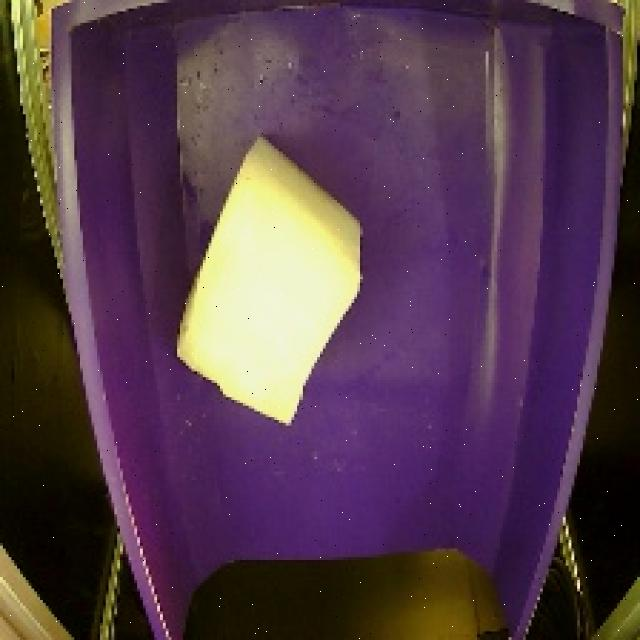white_radish: (167, 128, 376, 440)
